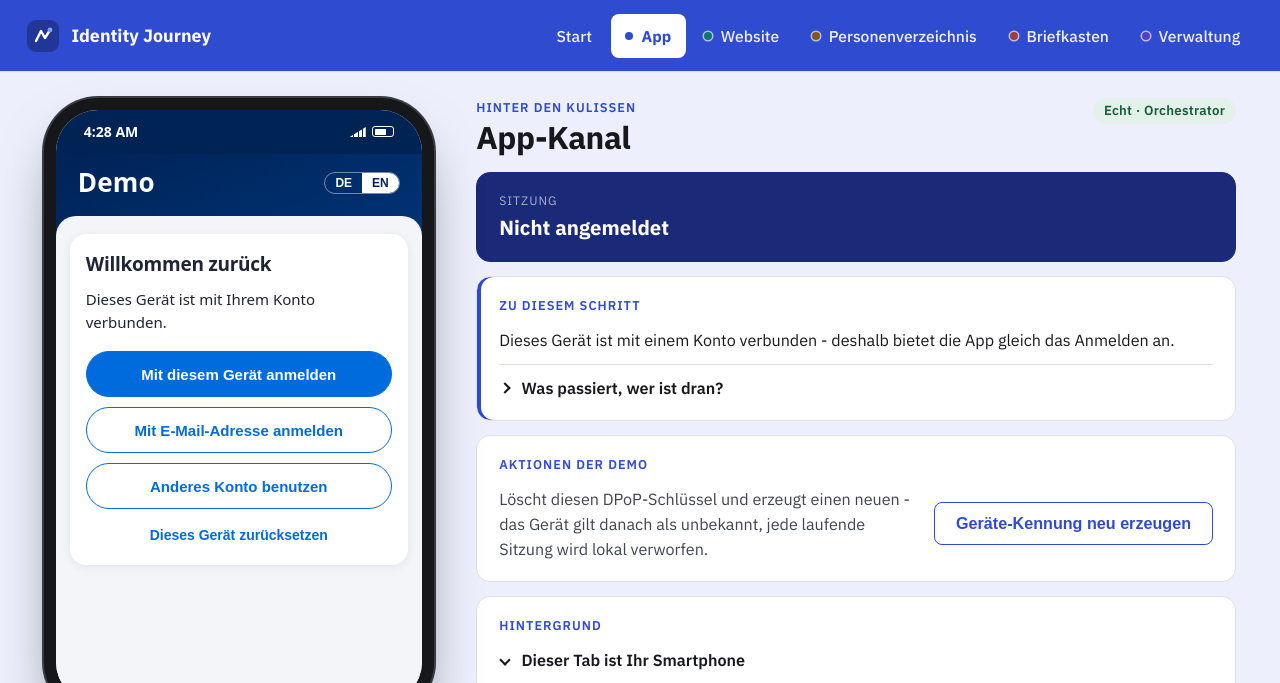
the way out before anything is proven › leads from the login choice back to the start instead of beginning the same choice again
Click the button named "Mit E-Mail-Adresse anmelden": (239, 374) left=86, top=351, right=392, bottom=397
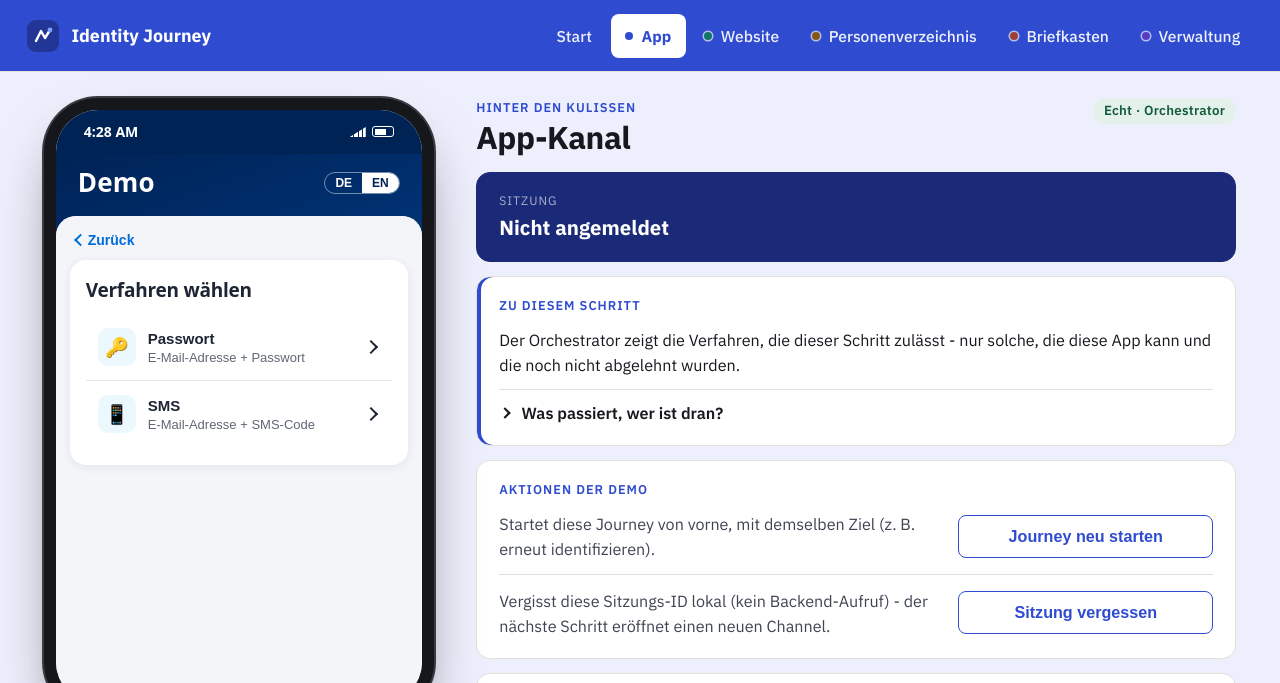
Click the button "Zurück": (104, 240) left=66, top=224, right=142, bottom=256
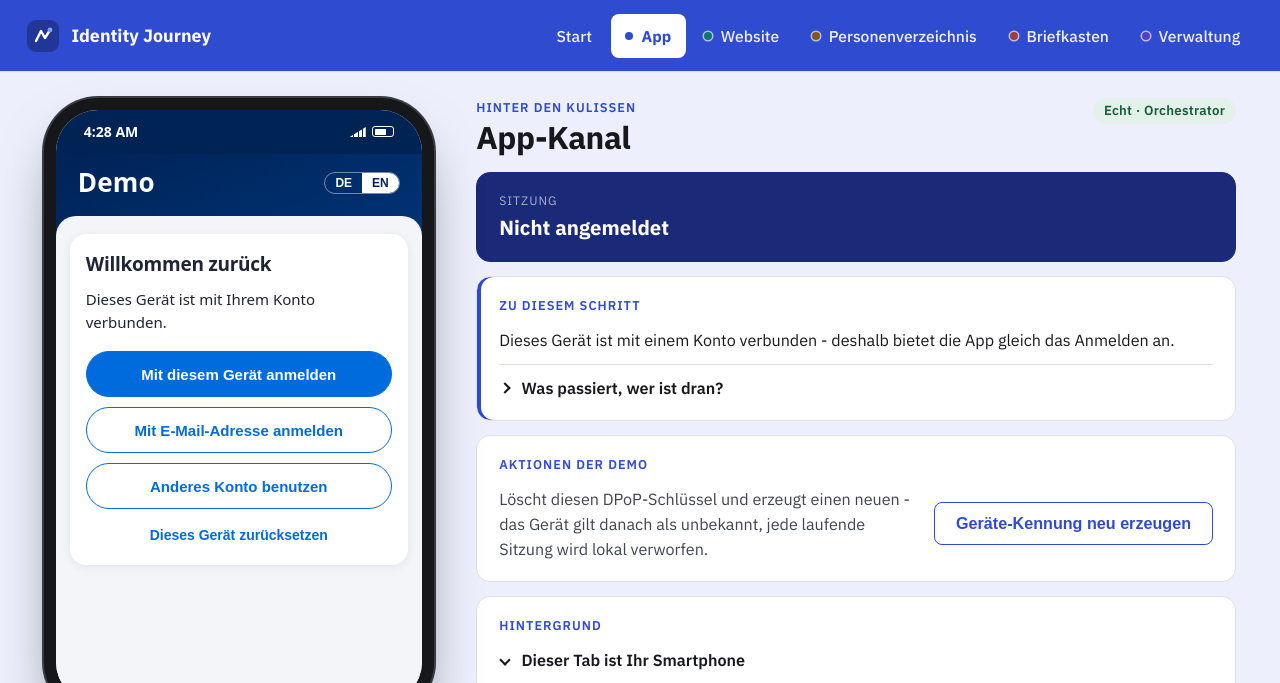
Now the heading "Willkommen zurück" is shown, box left=86, top=251, right=271, bottom=277
